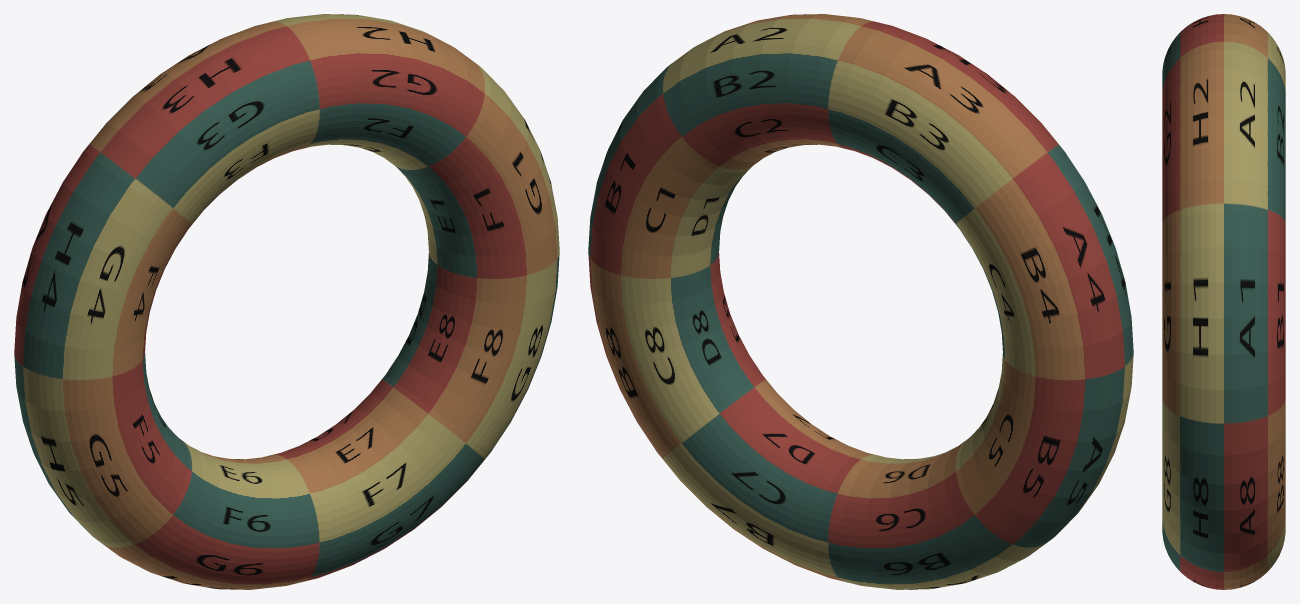
The model's file is texture_torus_R15_r13.glb.
The picture shows the model from 3 angles, left to right: view 1: azimuth 30°, elevation 25°; view 2: azimuth 150°, elevation 25°; view 3: azimuth 270°, elevation 25°; orthographic projection. The views are drawn at different scales.
Parts seen in each view (by area): view 1: world; view 2: world; view 3: world.
Boxes of the visible parts, <box> form: world: <box>14,14,559,589</box>; world: <box>588,14,1133,589</box>; world: <box>1162,14,1285,589</box>.
Size of the model in its own units: 25.47 by 25.42 by 5.46.
Materials: 1 (1 with a texture image).
